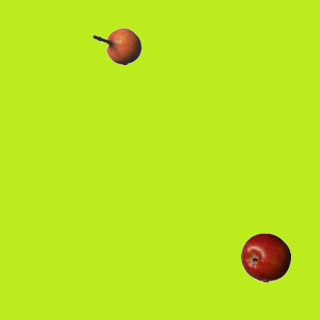Apple Braeburn: (240, 232, 290, 282)
Granadilla: (91, 21, 141, 71)
